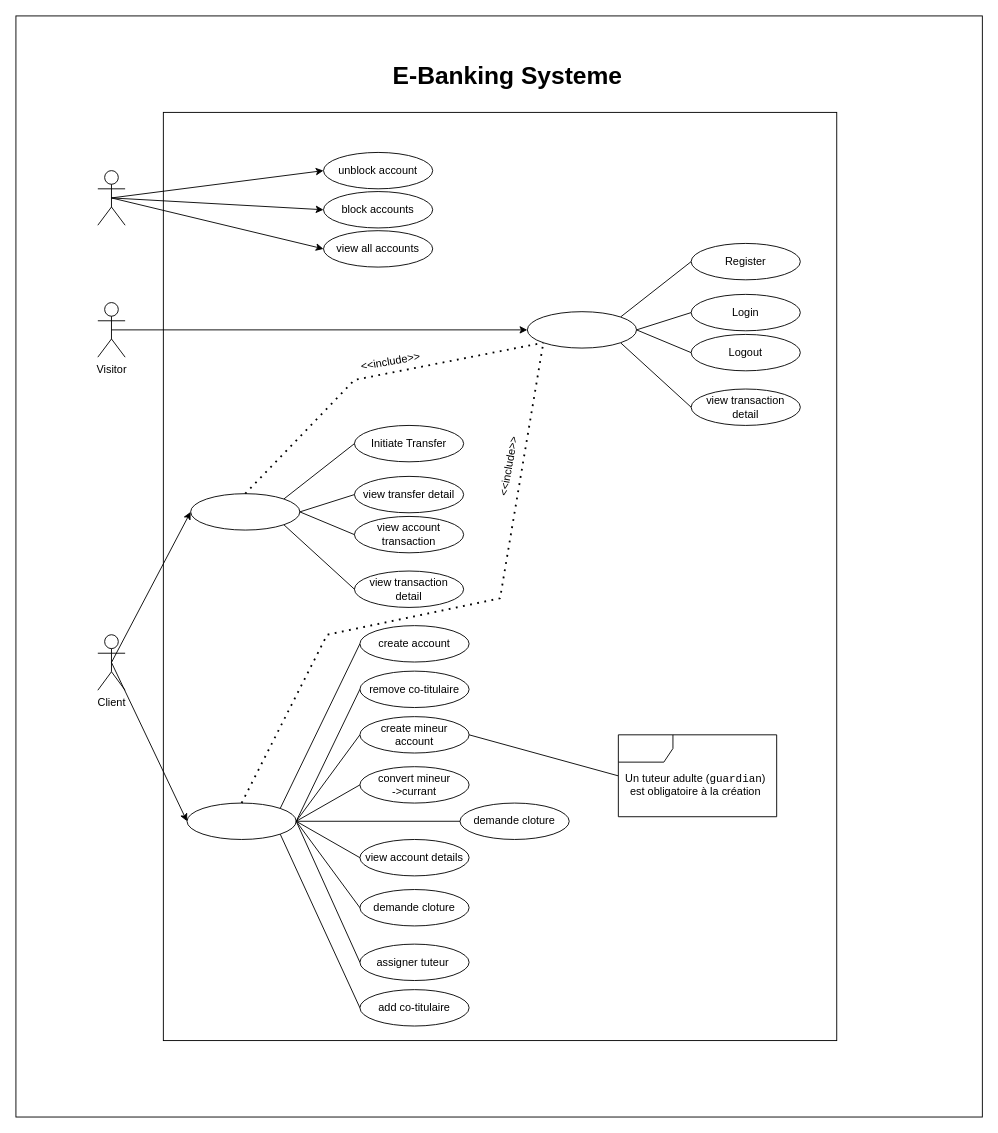
The diagram is 998 pixels wide and 1133 high, and some of its shapes have lost their labels. Here are the shapes that lost their labels. From the top down, the box of each, then its label:
(97, 170, 125, 225): Admin
(526, 311, 637, 348): Authentication
(190, 493, 300, 530): gestion transaction
(617, 734, 777, 817): condition
(186, 802, 296, 839): gestion comptes
